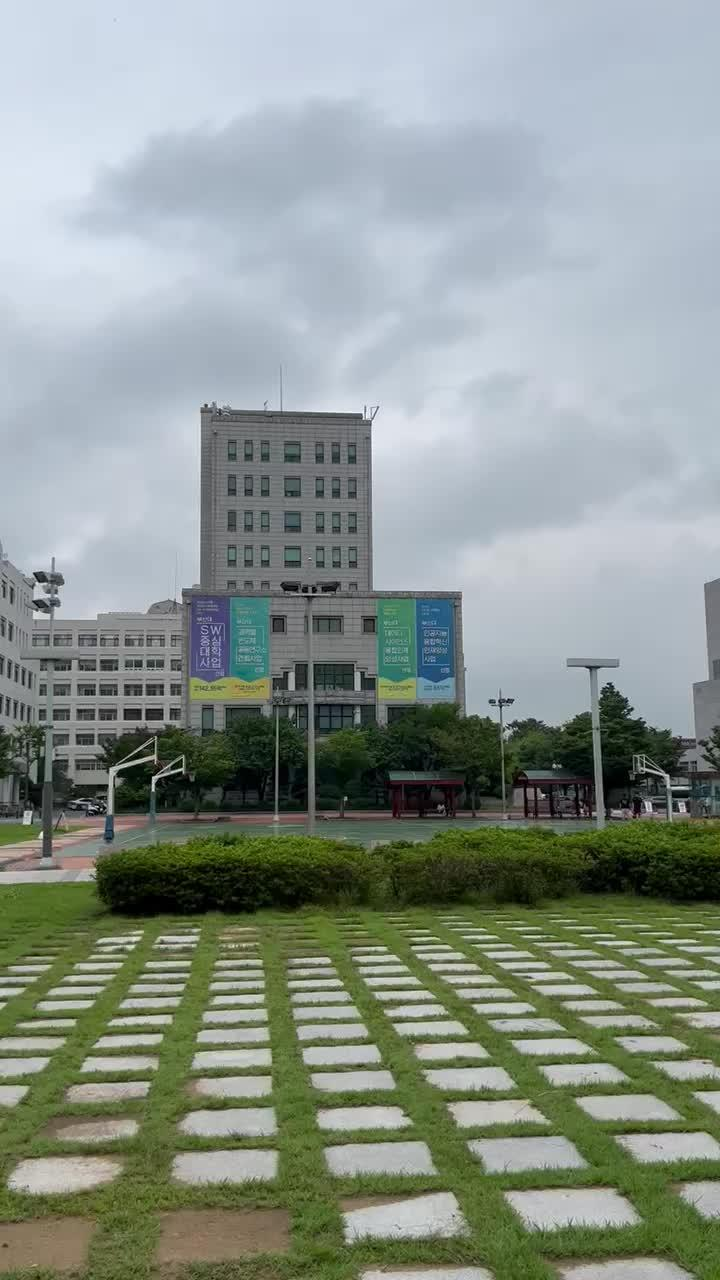building: (196, 398, 370, 590)
